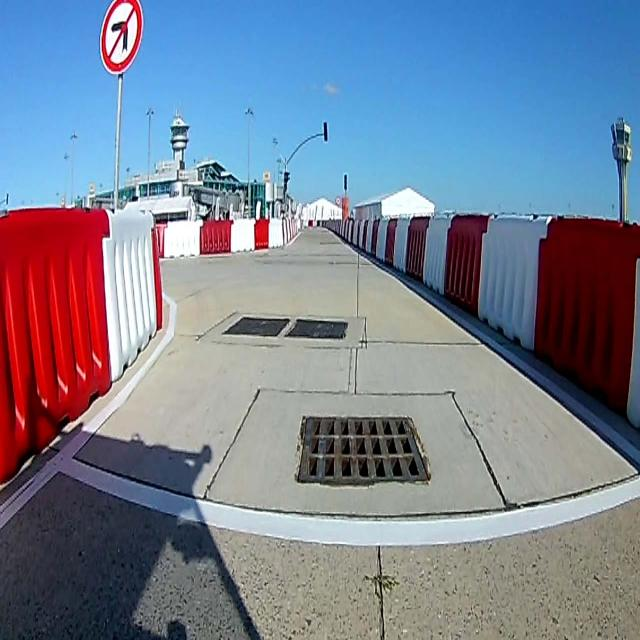soladonulmez: (98, 1, 148, 77)
